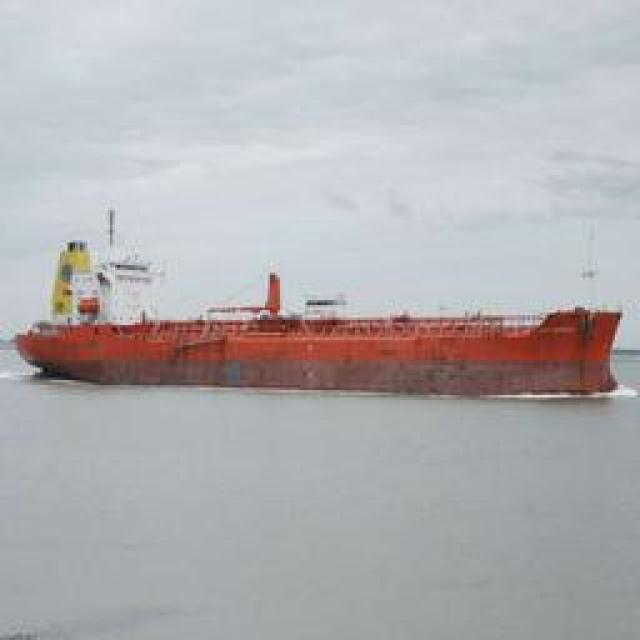ship2: (13, 210, 623, 400)
